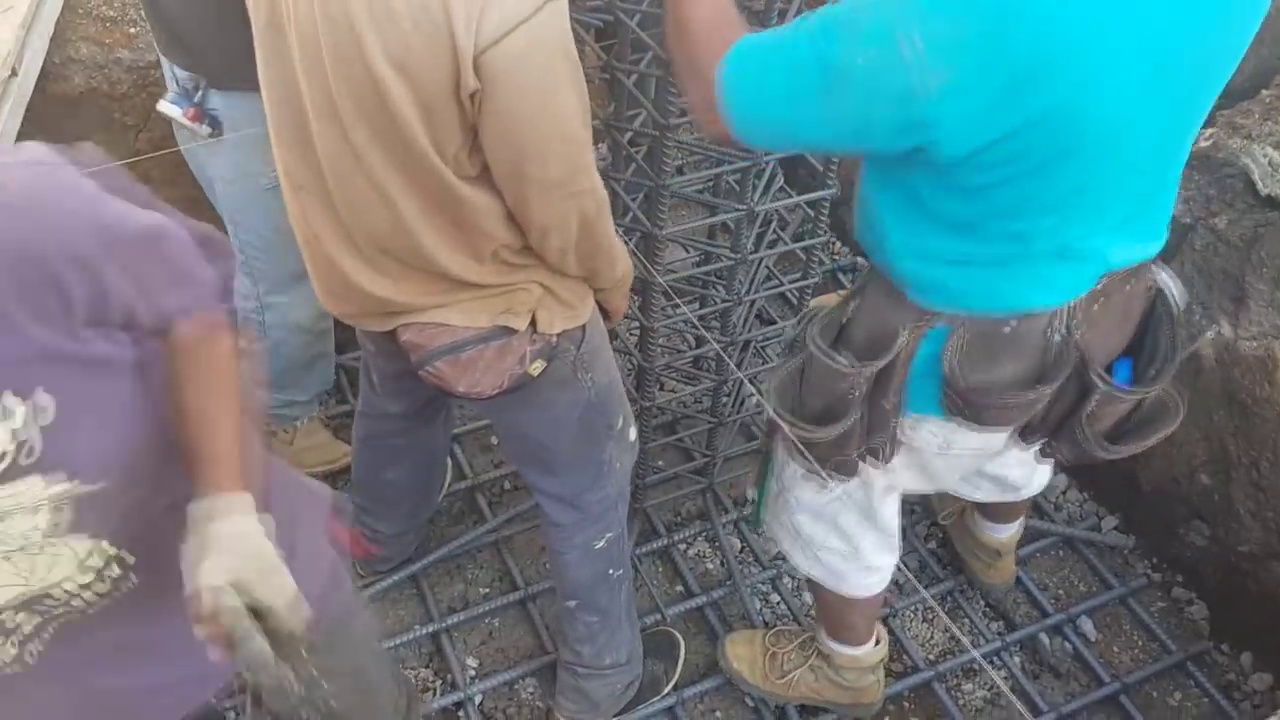person: (661, 0, 1280, 704), (222, 0, 691, 717), (0, 154, 427, 720), (132, 0, 362, 477)
